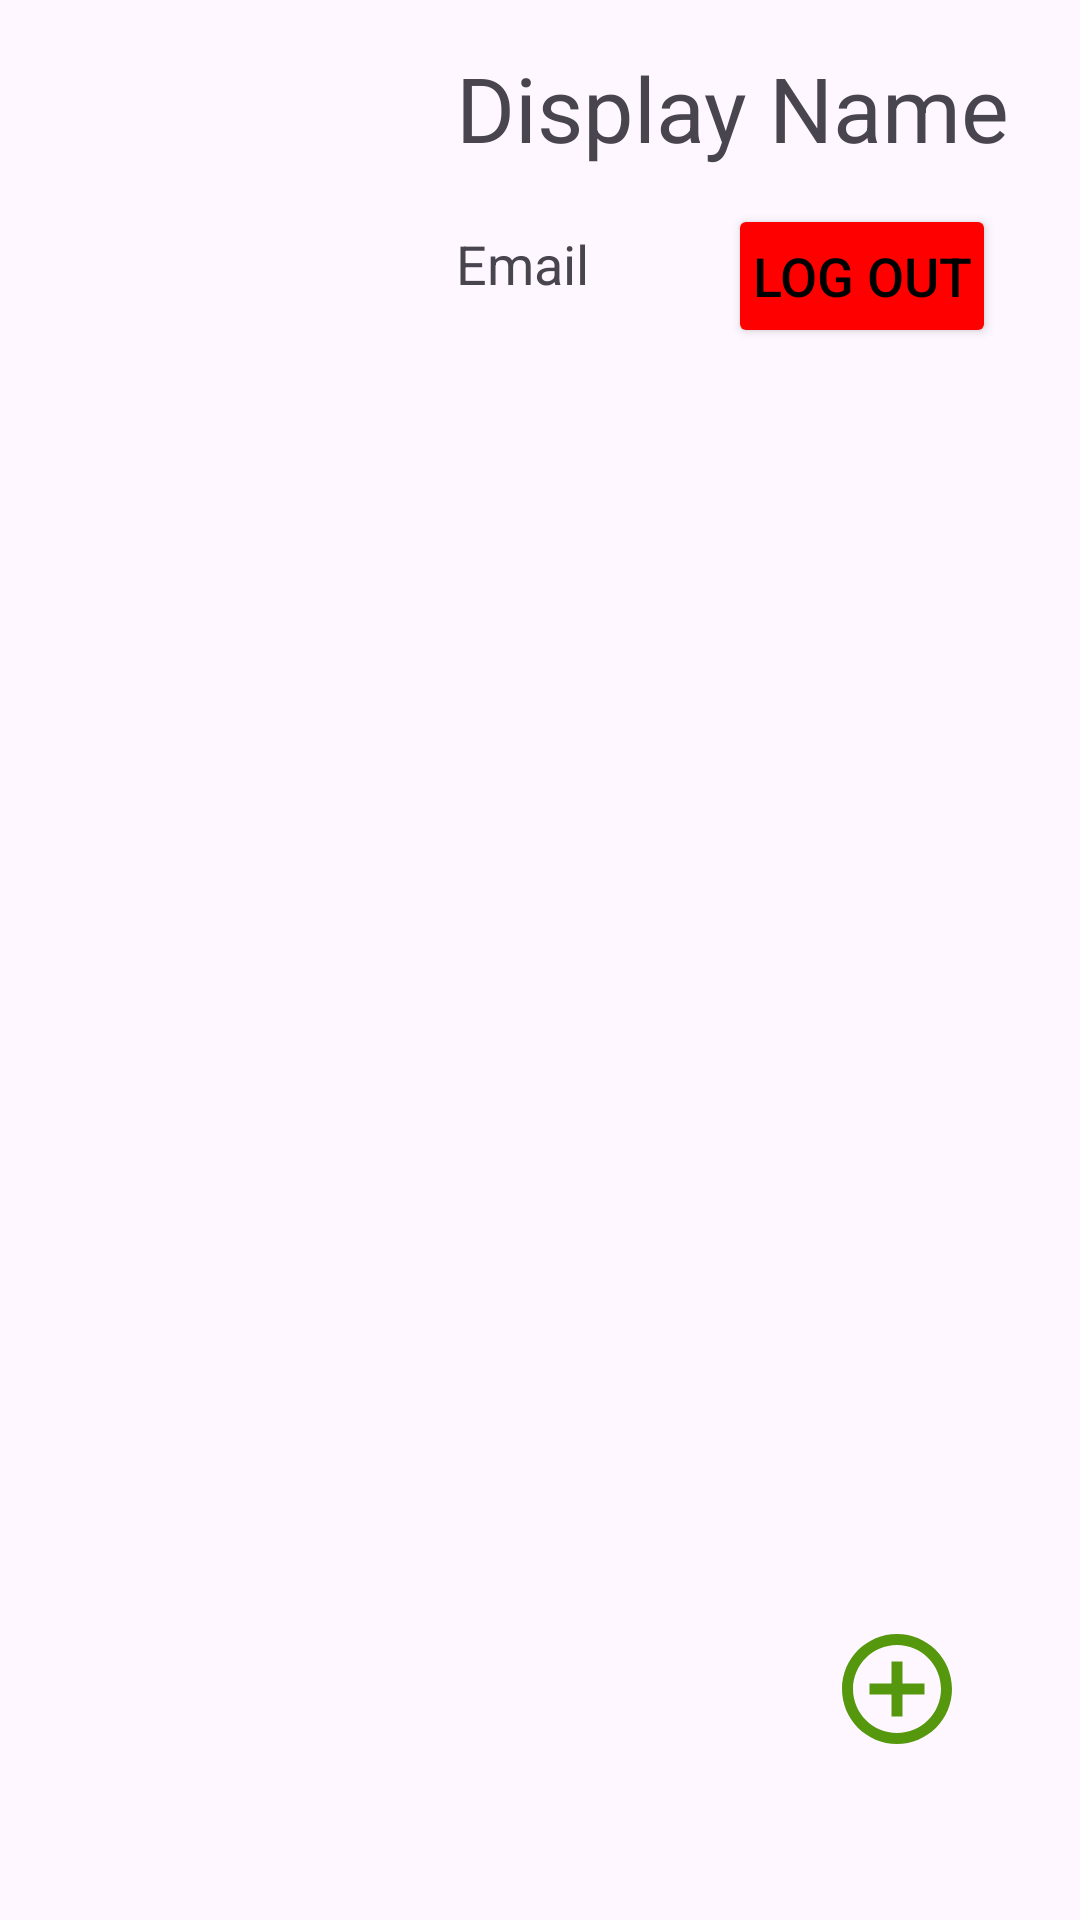

Where icons sit on this 1080*1920 app screen, as [x1, y1, x2, y2]:
add circle: [842, 1634, 952, 1744]
